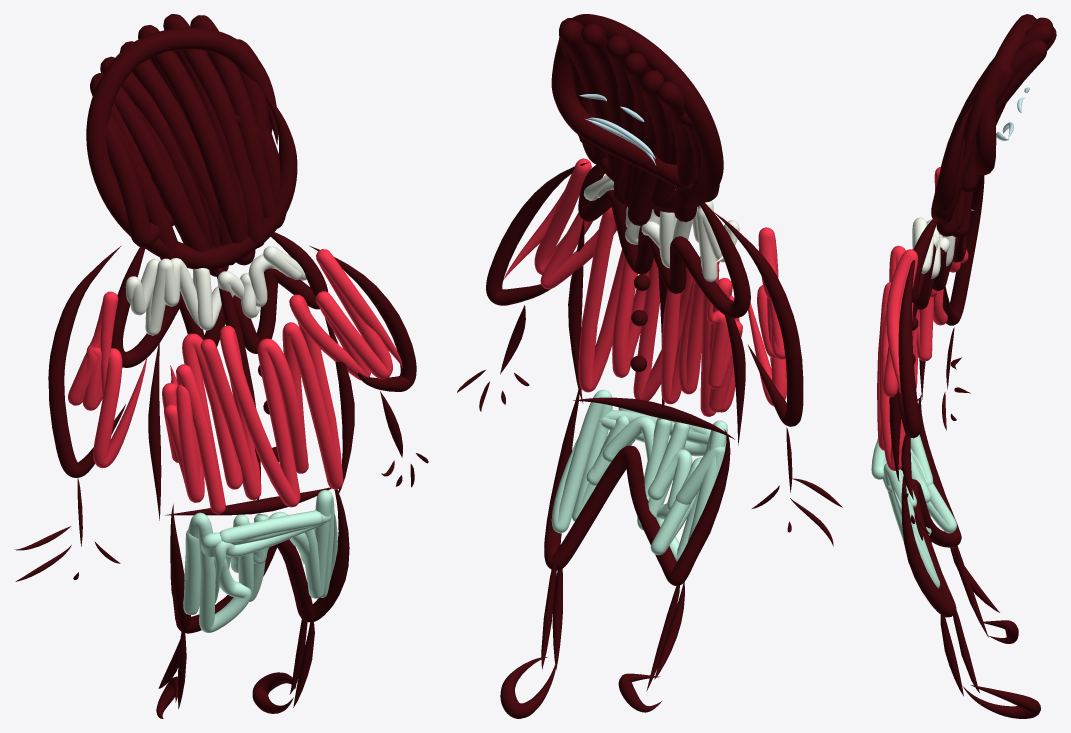
Rendered from clown001.glb.
3 renders of one model, left to right at view 1: azimuth 30°, elevation 25°; view 2: azimuth 150°, elevation 25°; view 3: azimuth 270°, elevation 25°, orthographic. The views are drawn at different scales.
Visible parts, largest first — view 1: clown.001; view 2: clown.001; view 3: clown.001.
Part boxes in pixels (bbox=[...]): clown.001: bbox=[14, 14, 428, 718]; clown.001: bbox=[457, 14, 842, 718]; clown.001: bbox=[871, 14, 1056, 718].
Size of the model in its own units: 2.52 by 4.29 by 1.09.
Materials: 1 (1 with a texture image).
